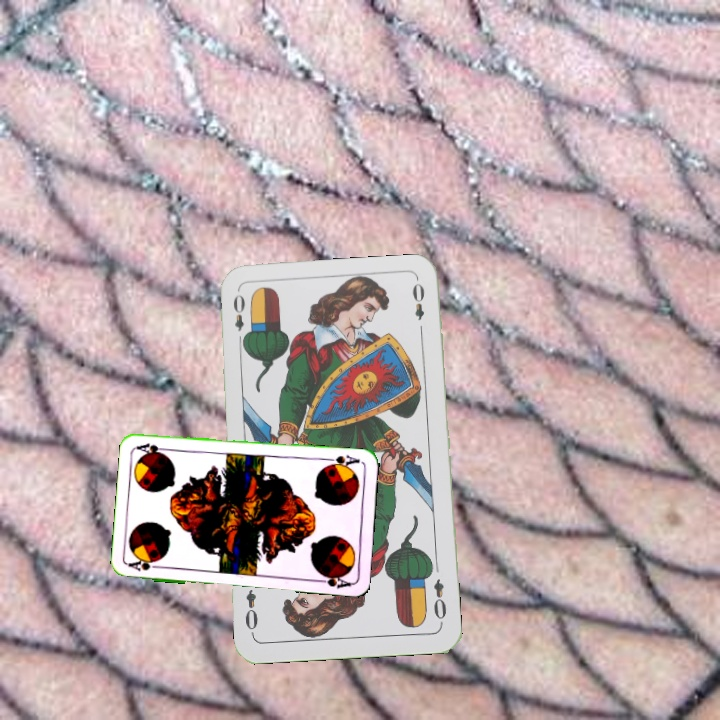EO: (229, 291, 250, 348), (429, 575, 449, 627)
SA: (322, 451, 362, 471), (125, 555, 166, 573)
